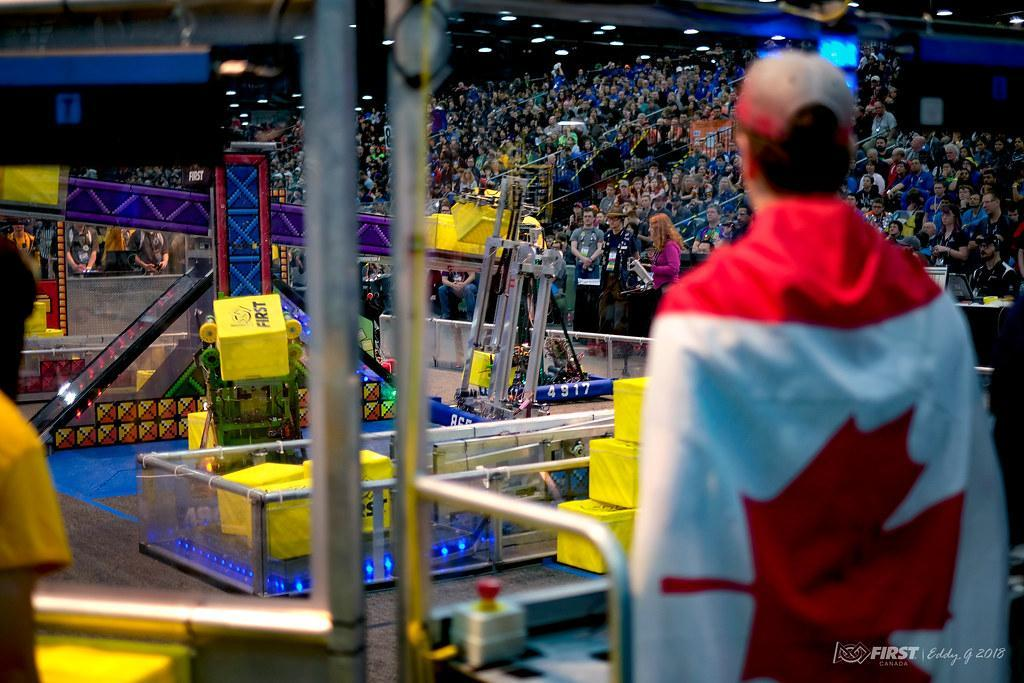robot: (424, 236, 569, 456), (175, 291, 322, 483), (491, 247, 625, 407)
